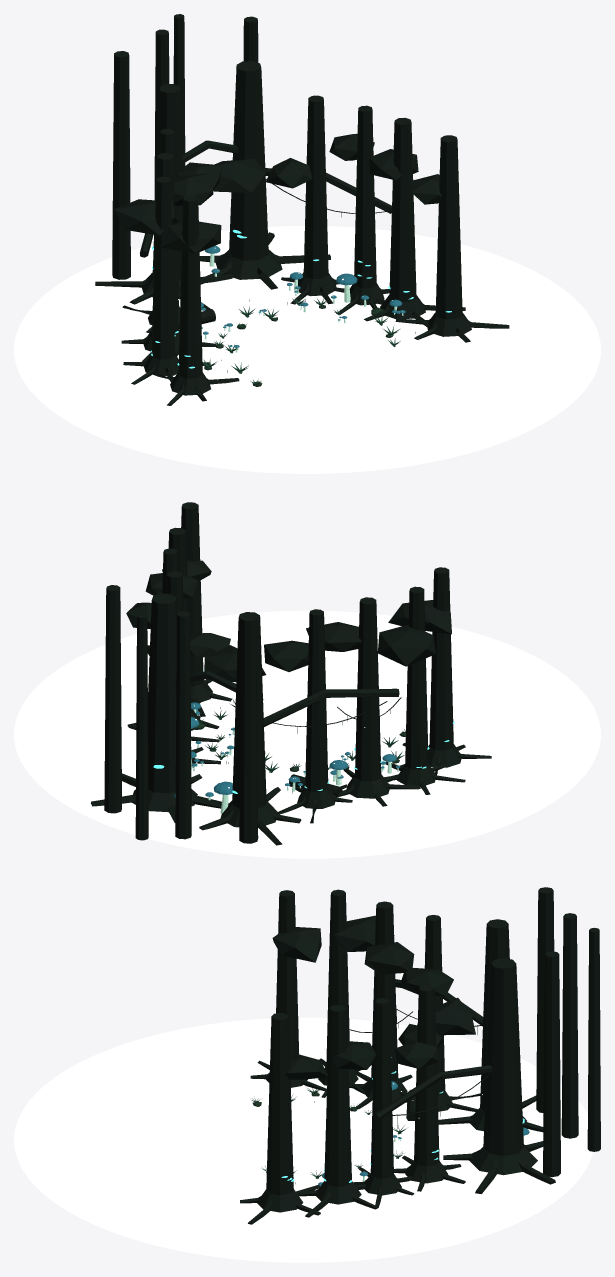
3 views of the same model, one above another, from view 1: azimuth 30°, elevation 25°; view 2: azimuth 150°, elevation 25°; view 3: azimuth 270°, elevation 25° (orthographic).
Visible parts, largest first — view 1: sol, decor; view 2: sol, decor; view 3: sol, decor.
Part boxes in pixels (x1=…): sol: x1=14, y1=226, x2=600, y2=473; decor: x1=95, y1=14, x2=509, y2=405; sol: x1=14, y1=610, x2=600, y2=858; decor: x1=91, y1=502, x2=491, y2=845; sol: x1=14, y1=1017, x2=592, y2=1262; decor: x1=240, y1=887, x2=600, y2=1224.
Size of the model in its own units: 96 by 40.78 by 97.1.
